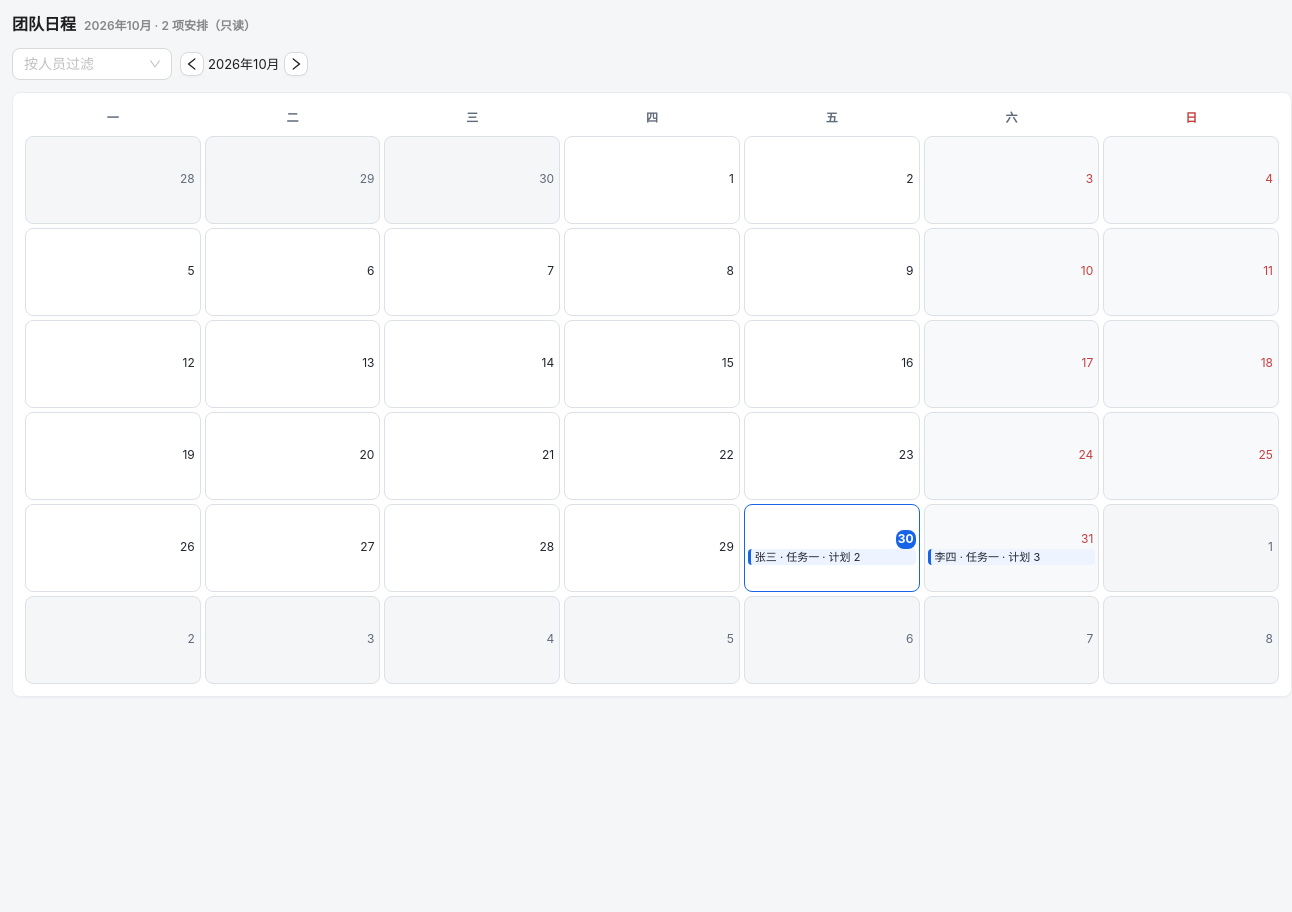
Scenario: 团队日程（HYPE-88，只读） › 人员过滤：选择某人后仅请求该人的条目
The image size is (1292, 912).
Expected: the text "张三 · 任务一 · 计划 2" is shown, top-left (748, 549), bottom-right (916, 565)
Press the mouse on the element showing "按人员过滤": coordinates (92, 64) top-left (12, 48), bottom-right (172, 80)
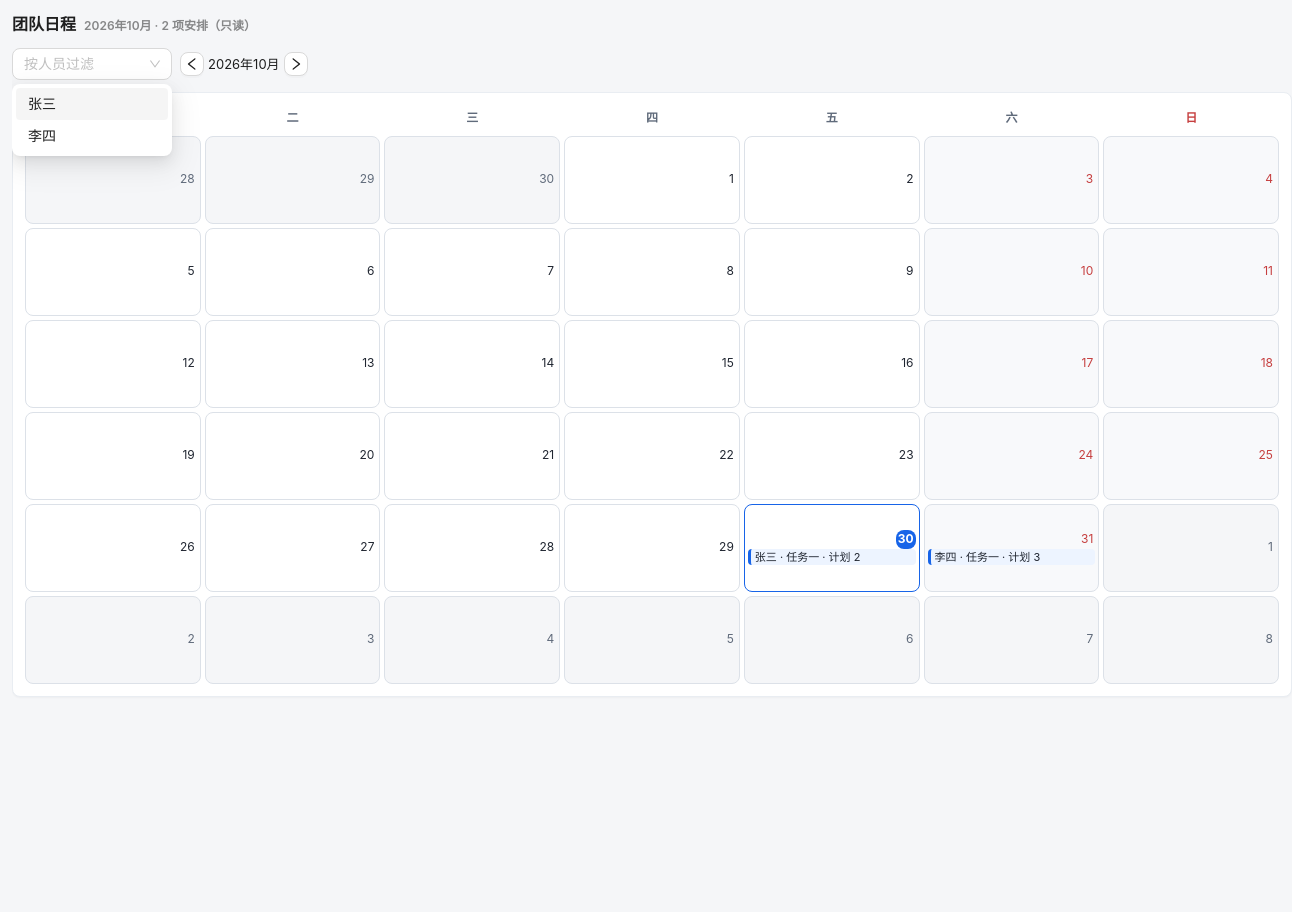
Click the text "李四": coordinates (42, 136) top-left (28, 127), bottom-right (56, 144)
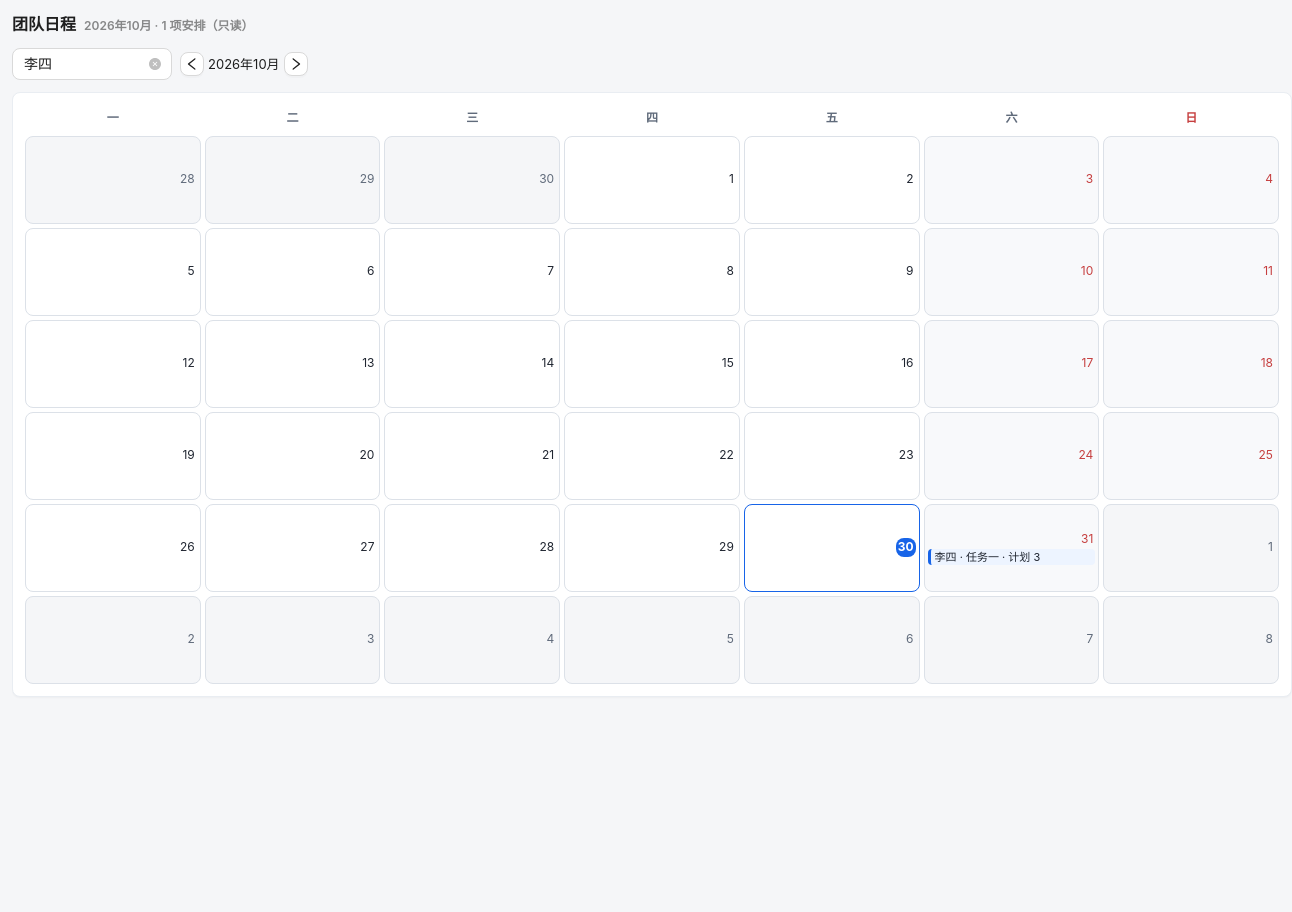
Expected: the text "李四 · 任务一 · 计划 3" is shown, top-left (928, 549), bottom-right (1095, 565)
Now the button "张三 · 任务一" is gone
